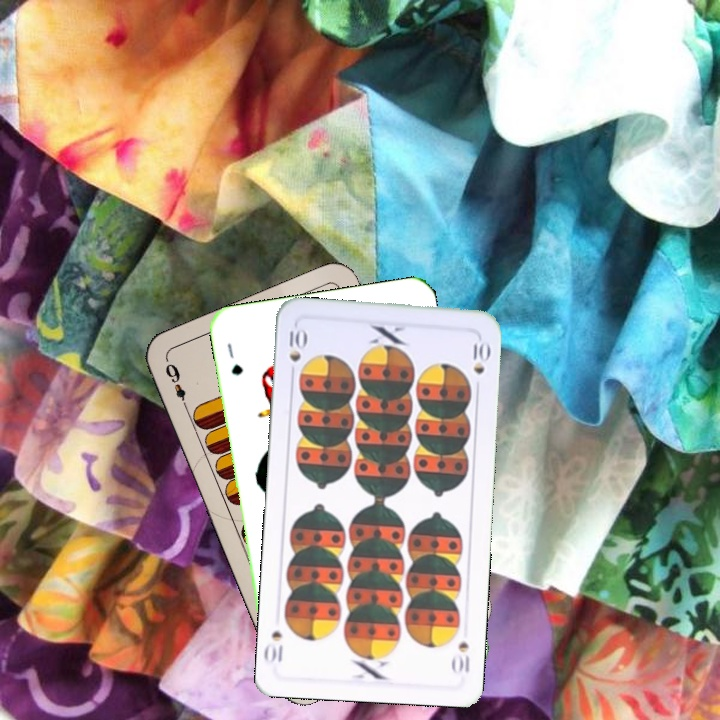E9: (161, 359, 191, 413)
GU: (223, 339, 245, 378)
S10: (283, 323, 308, 381), (448, 637, 472, 676)
